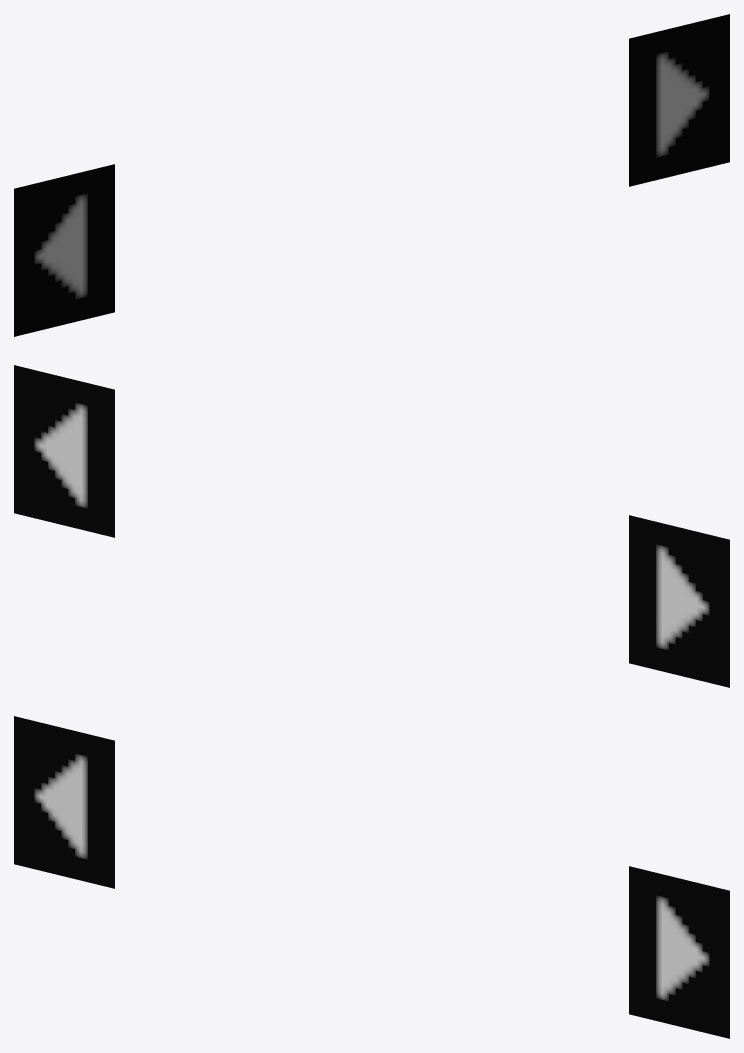
The picture shows the model from 3 angles, top to bottom: view 1: azimuth 30°, elevation 25°; view 2: azimuth 150°, elevation 25°; view 3: azimuth 330°, elevation 25°; orthographic projection.
Visible parts, largest first — view 1: Joint_0_Object_0; view 2: Joint_0_Object_0; view 3: Joint_0_Object_0.
Part boxes in pixels (left/top/right/bottom): Joint_0_Object_0: left=14, top=14, right=729, bottom=336; Joint_0_Object_0: left=14, top=365, right=729, bottom=687; Joint_0_Object_0: left=14, top=716, right=729, bottom=1038.
Bounding box in the file's own units: 49.9 × 9.87 × 0.
1 material, 1 textured.
